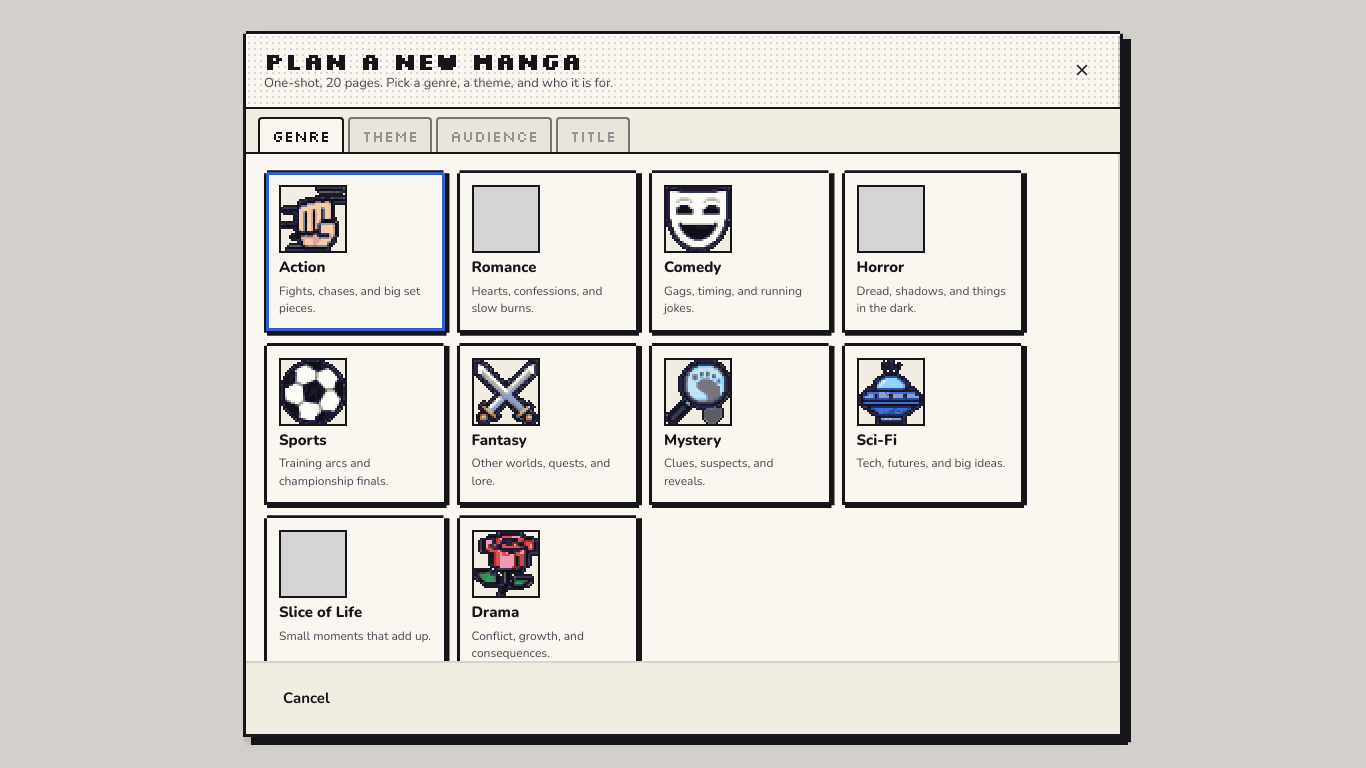
Test: taste copy in the panels › wizard: each audience names the magazine that reads it and what those readers want
What coordinates should you click on to do the following:
click the button "Action Fights, chases, and big set pieces."
I would click on:
 (355, 251)
Its box is [264,170,446,333].
(page scrolled)
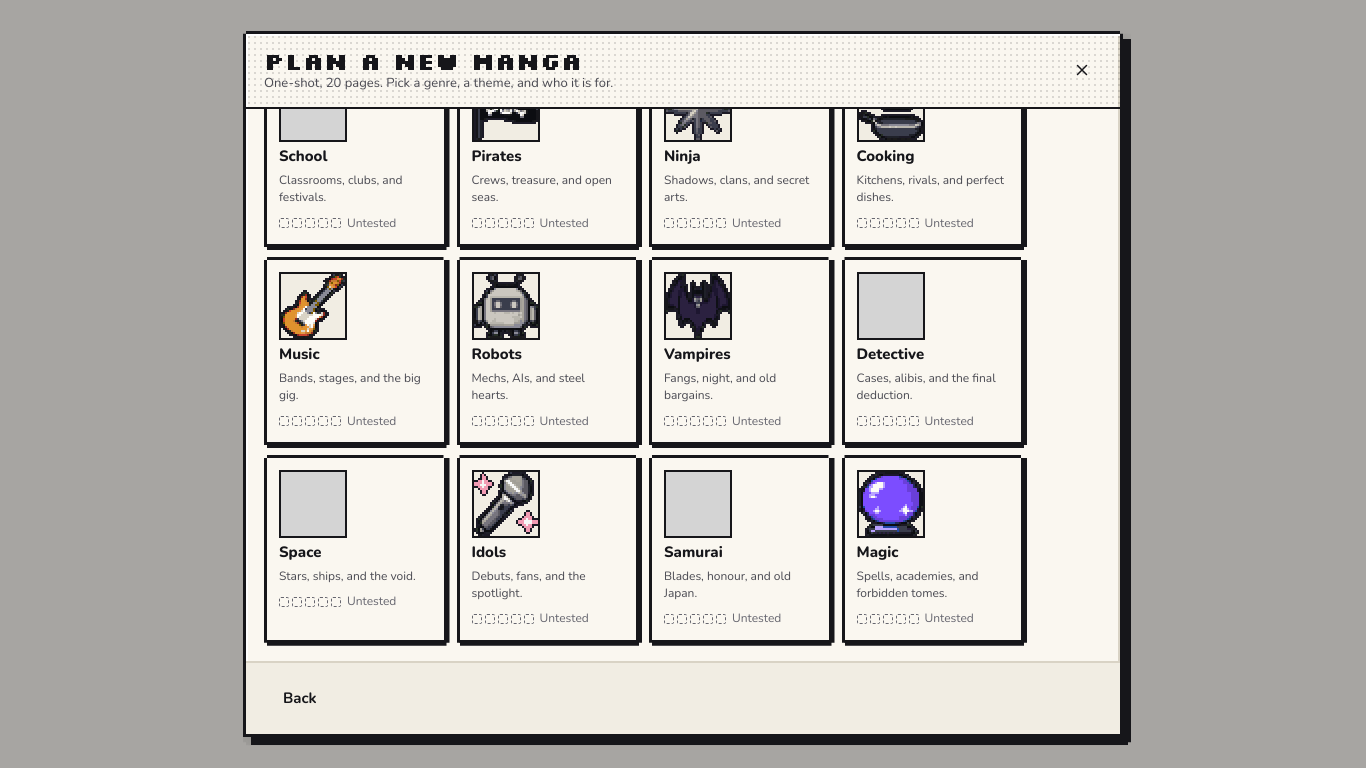
What coordinates should you click on to do the following:
click the button "Samurai Blades, honour, and old Japan. Untested"
I would click on:
 (740, 549)
Its box is [649,455,832,643].
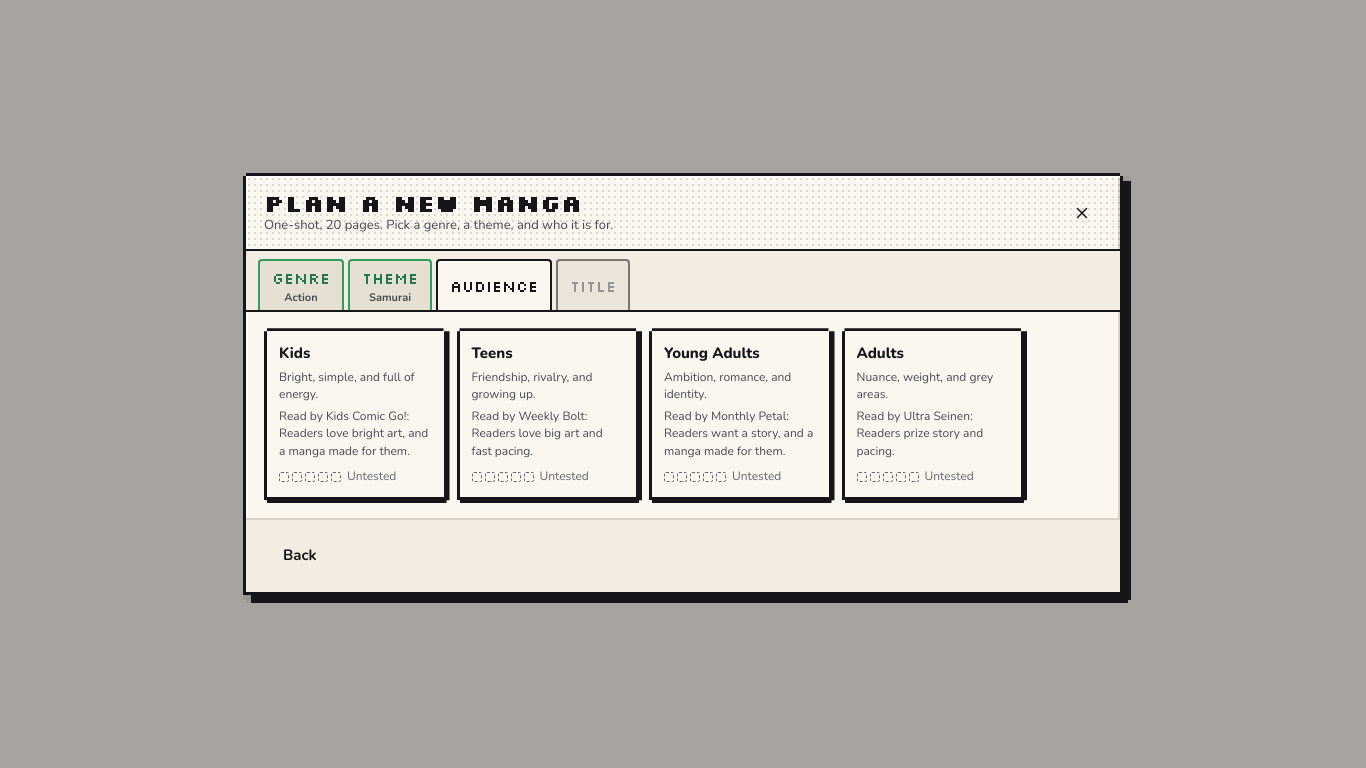
Expected: the text "Read by Kids Comic Go!: Readers love bright art, and a manga made for them." is shown, [279,408,432,460]
Expected: the text "Read by Ultra Seinen: Readers prize story and pacing." is shown, [856,408,983,459]
